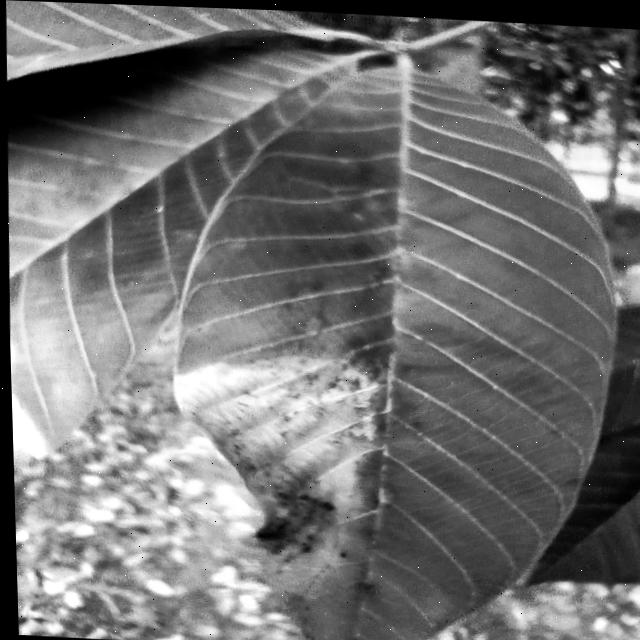Leaf-Blight: (165, 350, 378, 598)
